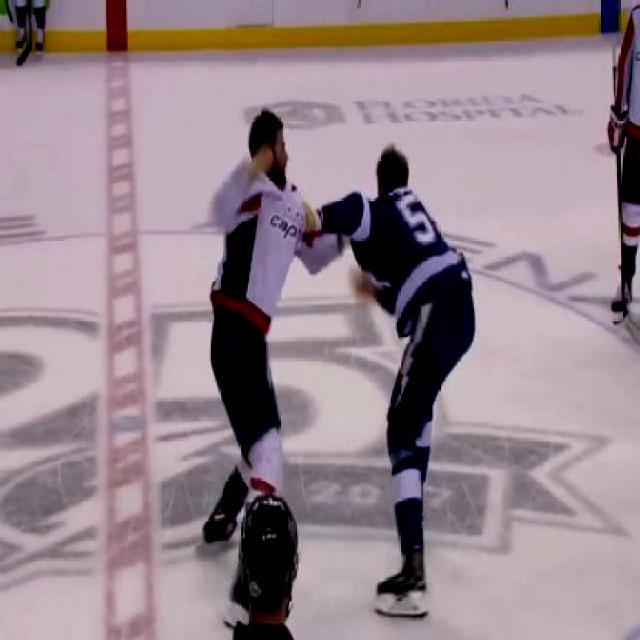fight: (205, 113, 478, 553)
